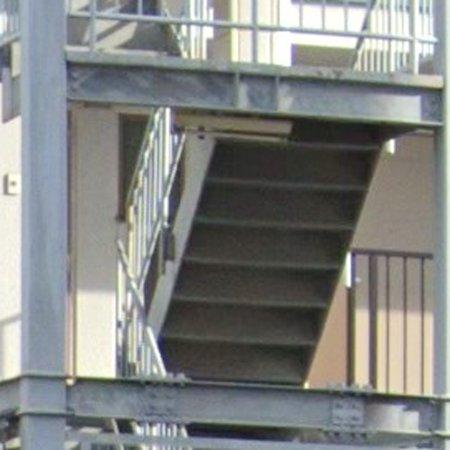stairs: (161, 123, 383, 386)
